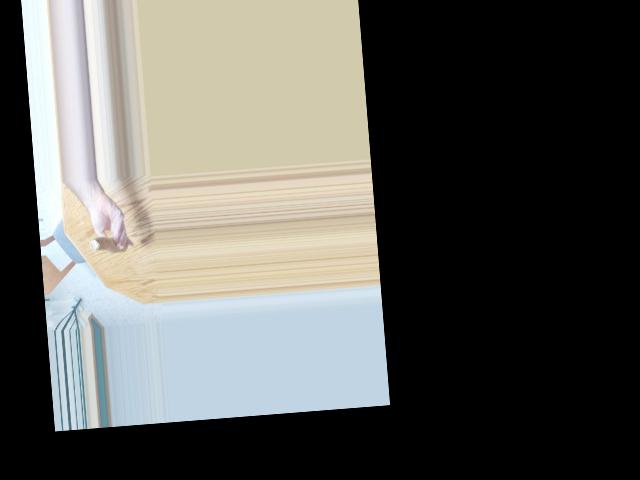sweet_potato: (94, 240, 129, 255)
